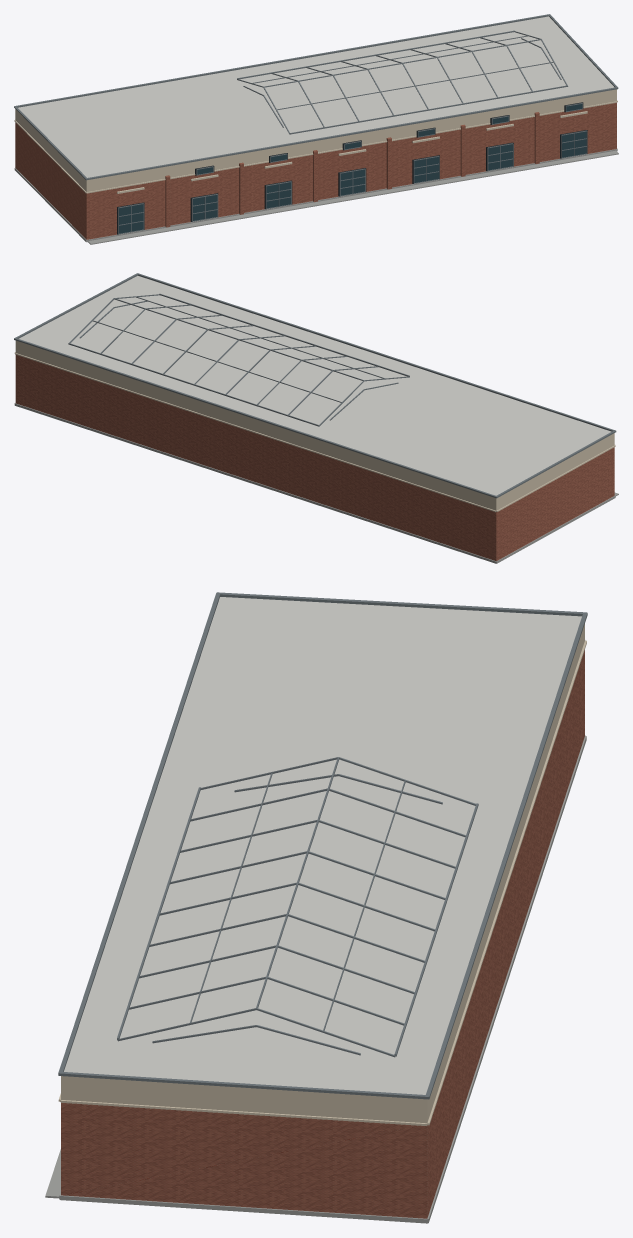
Rendered from ole-miss-northwest-mechanical-plant.glb.
The picture shows the model from 3 angles, top to bottom: view 1: azimuth 30°, elevation 25°; view 2: azimuth 150°, elevation 25°; view 3: azimuth 270°, elevation 25°; orthographic projection. The views are drawn at different scales.
Visible parts, largest first — view 1: Plant envelope — precise roof-plan exterior shell, Plant envelope — photographed approach articulation, Roof — photographed raised steel framing; view 2: Plant envelope — precise roof-plan exterior shell, Roof — photographed raised steel framing; view 3: Plant envelope — precise roof-plan exterior shell, Roof — photographed raised steel framing.
Part boxes in pixels (x1,y1,x2,y2): Plant envelope — precise roof-plan exterior shell: [14, 14, 618, 242]; Plant envelope — photographed approach articulation: [88, 102, 618, 244]; Roof — photographed raised steel framing: [237, 30, 568, 134]; Plant envelope — precise roof-plan exterior shell: [14, 273, 616, 563]; Roof — photographed raised steel framing: [68, 293, 409, 426]; Plant envelope — precise roof-plan exterior shell: [58, 592, 587, 1223]; Roof — photographed raised steel framing: [117, 757, 478, 1057].
Bounding box in the file's own units: 70.05 × 10.7 × 31.81.
7 materials, 1 textured.
